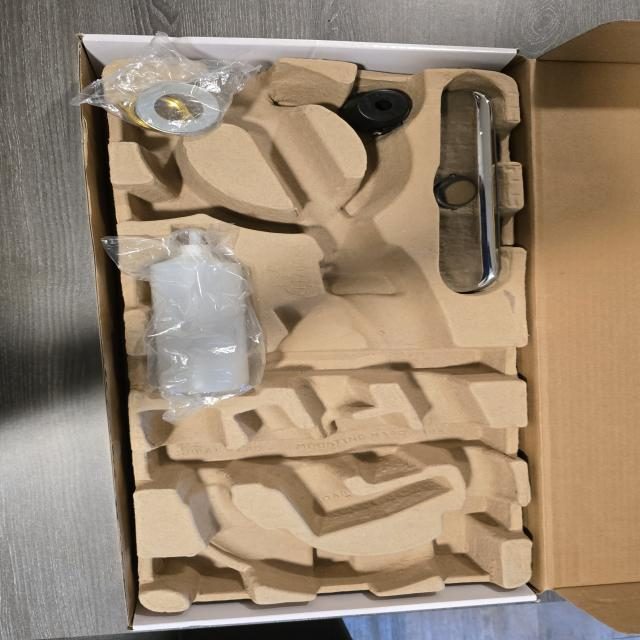1m: (136, 56, 510, 594)
2m: (237, 405, 452, 534)
3: (142, 225, 252, 394)
4: (431, 87, 501, 295)
5: (345, 88, 413, 133)
6: (68, 32, 271, 140)
7m: (129, 153, 260, 227)
